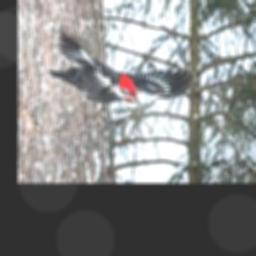Woodpecker: (50, 24, 197, 108)
